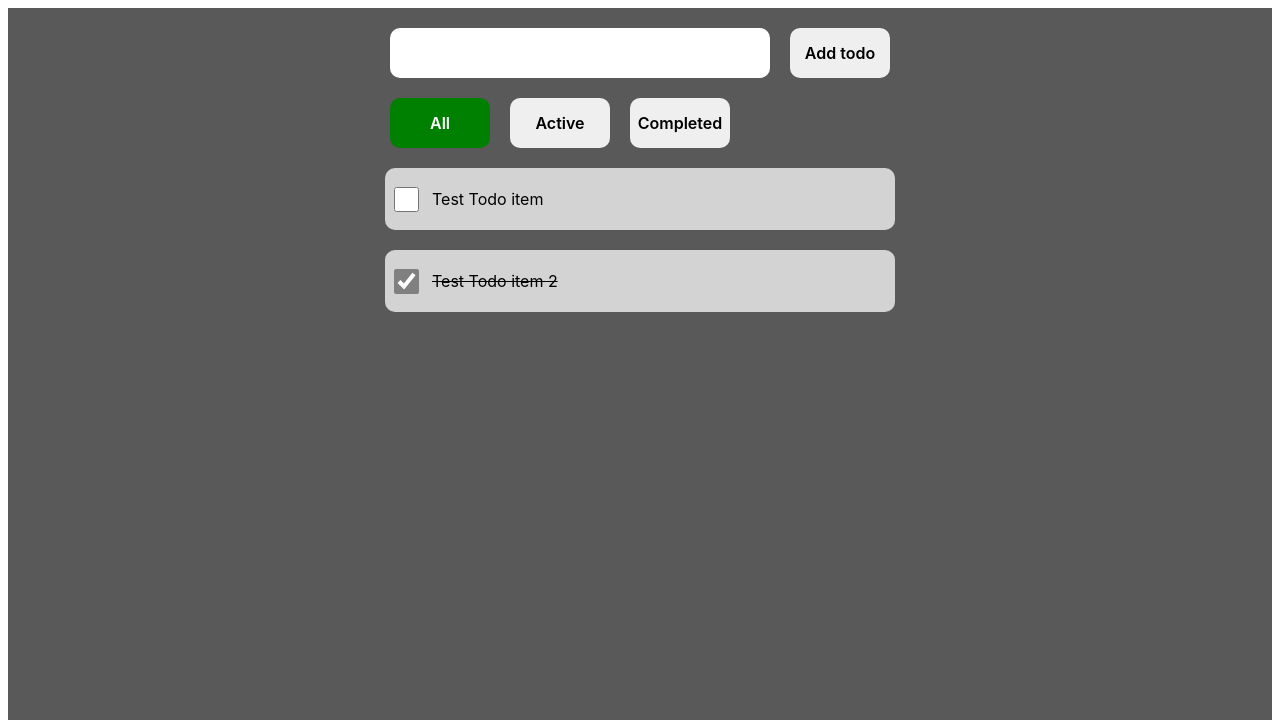
Test: Test App › Test NewToDoItem › Click on button with input correctly add new todo
Expected: the number of list items is 2, [385,168,895,230]; [385,250,895,312]
In the field: [580, 53] box [390,28,770,78], type "new"
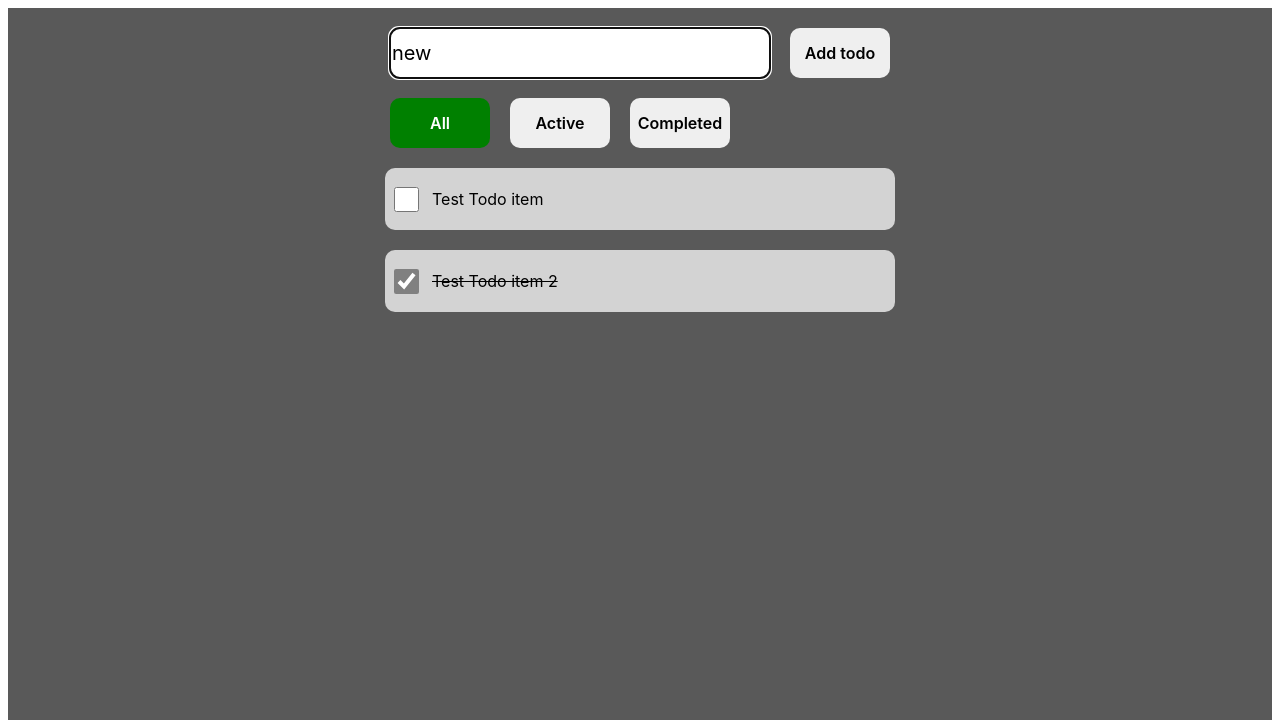
Click the button "Add todo": [840, 53] box [790,28,890,78]
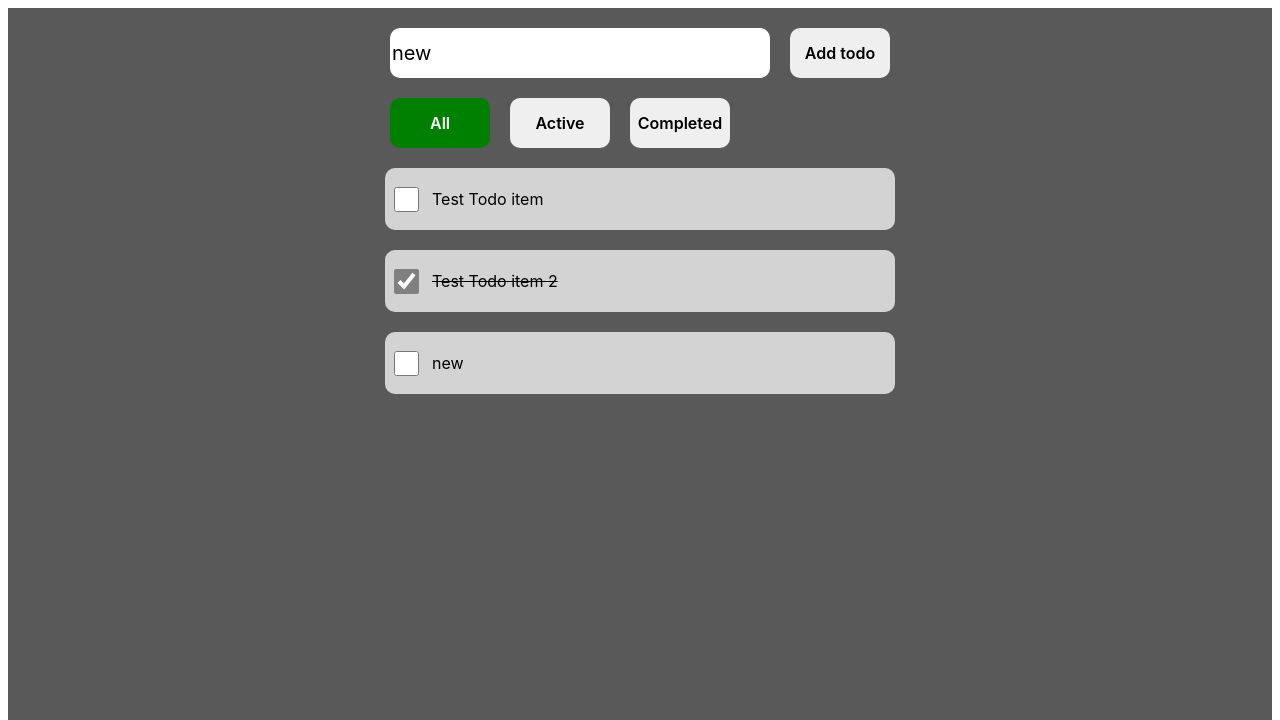
Expected: the number of list items is 3, [385,168,895,230]; [385,250,895,312]; [385,332,895,394]
Expected: the list item "new" is shown, [385,332,895,394]
